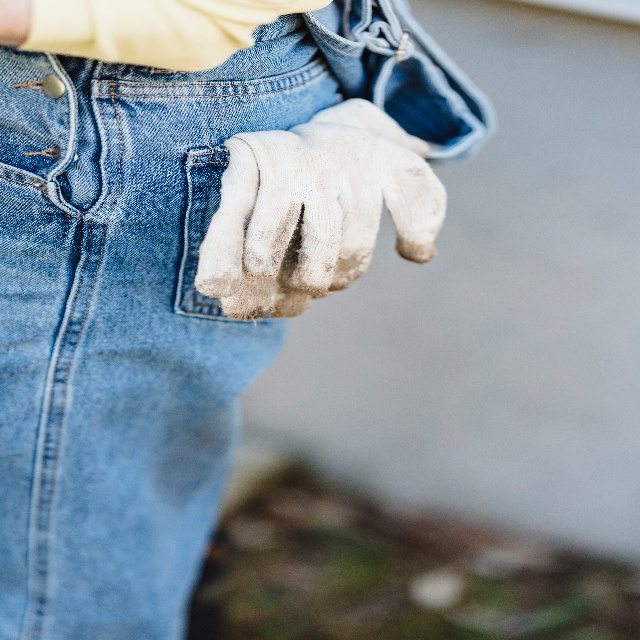Guantes: (194, 95, 433, 320), (243, 115, 448, 297)
